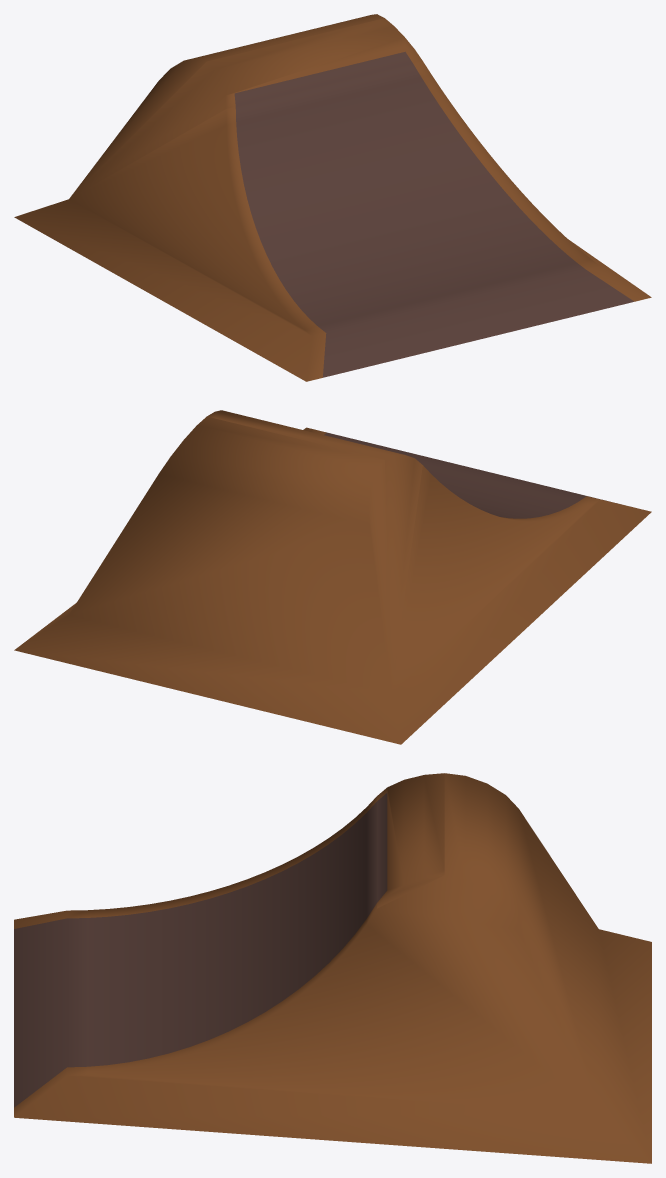
File: Simple_DirtJump.fbx
3 views of the same model, one above another, from view 1: azimuth 30°, elevation 25°; view 2: azimuth 150°, elevation 25°; view 3: azimuth 270°, elevation 25° (orthographic). The views are drawn at different scales.
Parts seen in each view (by area): view 1: Cube; view 2: Cube; view 3: Cube.
Part boxes in pixels (x1,y1,x2,y2): Cube: [14, 14, 651, 381]; Cube: [14, 410, 651, 744]; Cube: [14, 773, 651, 1163].
Bounding box in the file's own units: 1670 × 803 × 2030.
